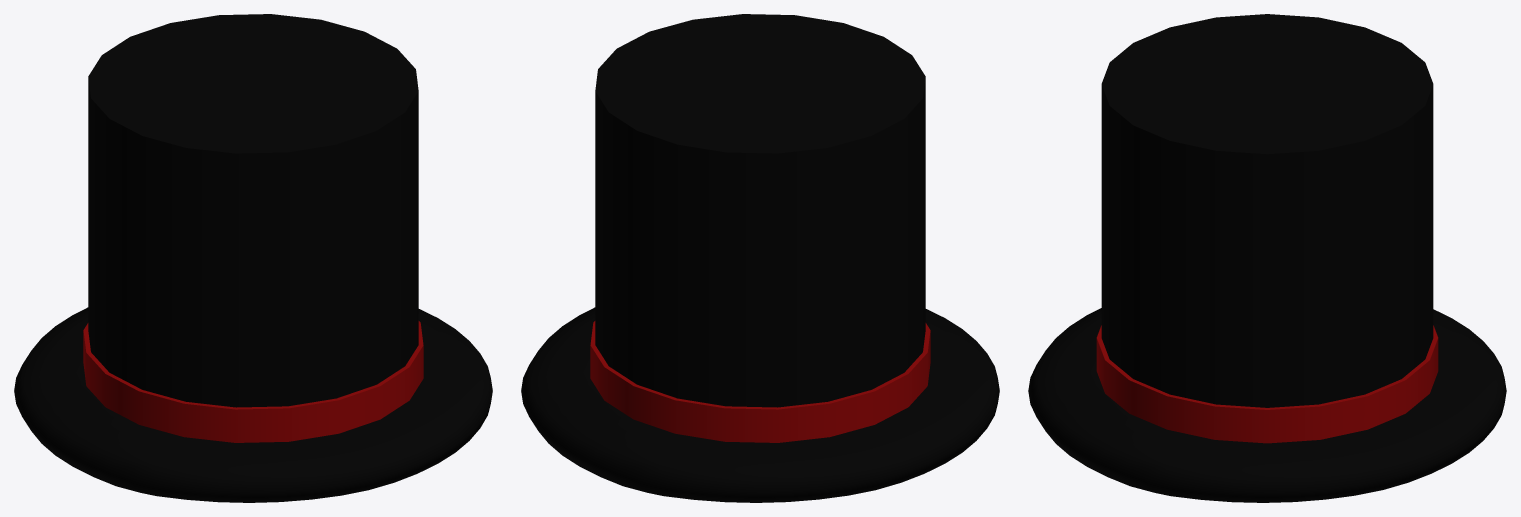
Rendered from zylinder.fbx.
3 views of the same model, side by side, from view 1: azimuth 30°, elevation 25°; view 2: azimuth 150°, elevation 25°; view 3: azimuth 270°, elevation 25° (orthographic).
Visible parts, largest first — view 1: polySurface3; view 2: polySurface3; view 3: polySurface3.
Part boxes in pixels (box(x1,y1,x2,y2)): polySurface3: box(14, 14, 492, 502); polySurface3: box(521, 14, 999, 502); polySurface3: box(1028, 14, 1506, 502).
Size of the model in its own units: 33.06 by 24.87 by 33.06.
